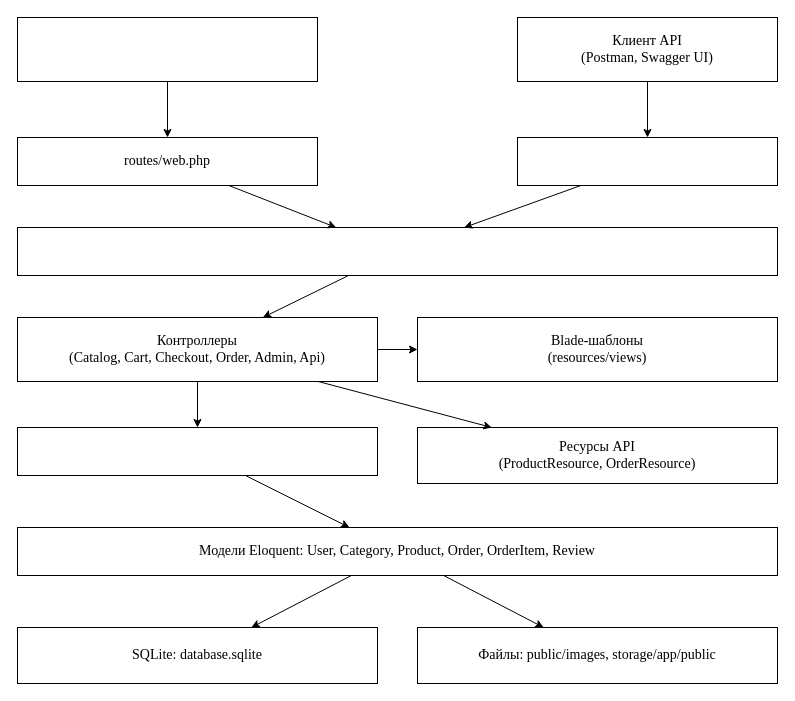
Image size: 795x701. Some labels were removed from this diagram. Here are the shapes that lost their labels. From the top down, the centre of each, then its label:
At pixel 167 49: "Браузер покупателя и администратора (HTML, Bootstrap 5)".
At pixel 647 161: "routes/api.php".
At pixel 397 251: "Middleware: auth, admin, throttle, CSRF, auth:sanctum".
At pixel 197 451: "Сервисы: Cart, OrderService".
